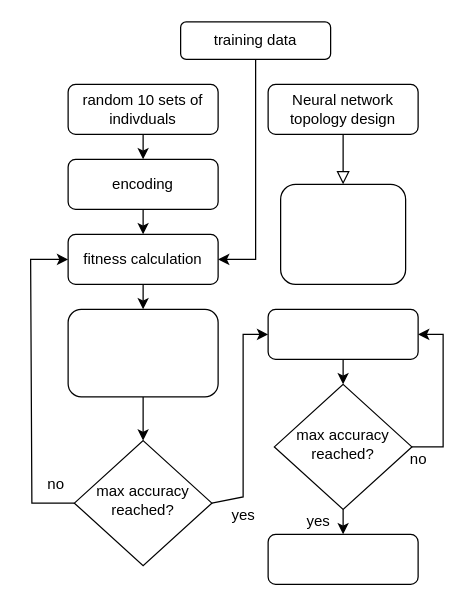
The diagram is 475 pixels wide and 606 high, and some of its shapes have lost their labels. Here are the shapes that lost their labels. From the top down, the centre of each, then its label:
At (342,233): "initialize length of individuals".
At (142,352): "selection crossvoer mutation fitness calculation".
At (342,333): "error calculation and weight update".
At (342,558): "simulation output".
